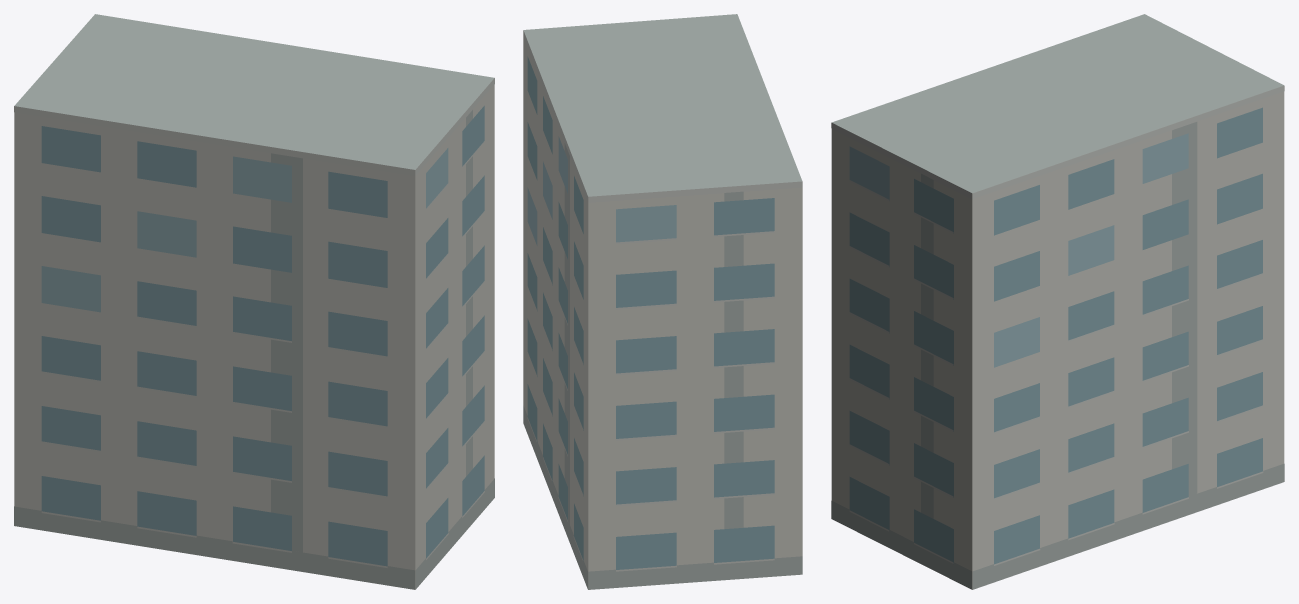
The model's file is survey-upis-32852021.glb.
3 views of the same model, side by side, from view 1: azimuth 30°, elevation 25°; view 2: azimuth 150°, elevation 25°; view 3: azimuth 270°, elevation 25° (orthographic). The views are drawn at different scales.
Parts seen in each view (by area): view 1: survey-upis-32852021.tmp; view 2: survey-upis-32852021.tmp; view 3: survey-upis-32852021.tmp.
Boxes of the visible parts, x1,y1,x2,y2 form: survey-upis-32852021.tmp: (14, 14, 494, 589); survey-upis-32852021.tmp: (523, 14, 802, 589); survey-upis-32852021.tmp: (831, 14, 1284, 589).
Size of the model in its own units: 15.68 by 16.15 by 16.73.
